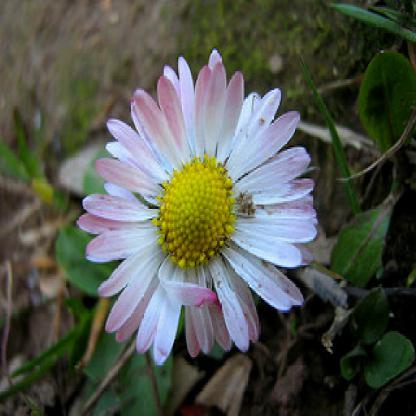ASTER: (49, 39, 353, 377)
